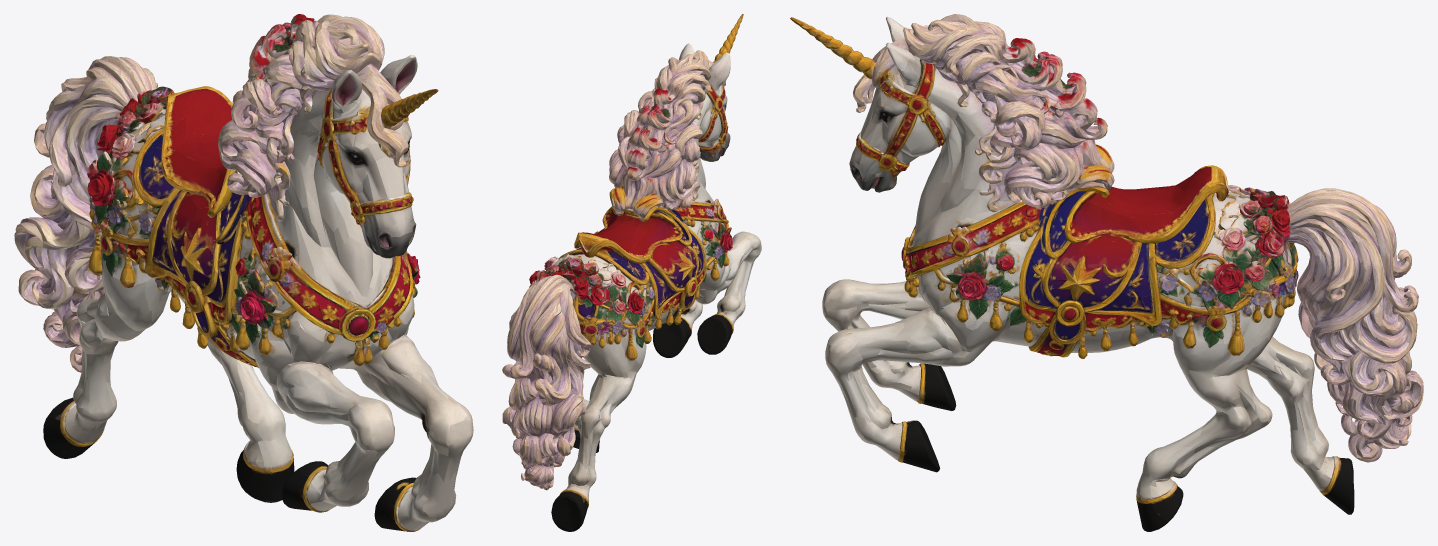
File: unicorn.glb
3 views of the same model, side by side, from view 1: azimuth 30°, elevation 25°; view 2: azimuth 150°, elevation 25°; view 3: azimuth 270°, elevation 25° (orthographic). The views are drawn at different scales.
Bounding box in the file's own units: 0.5397 × 1.69 × 1.9.
1 material, 1 textured.
